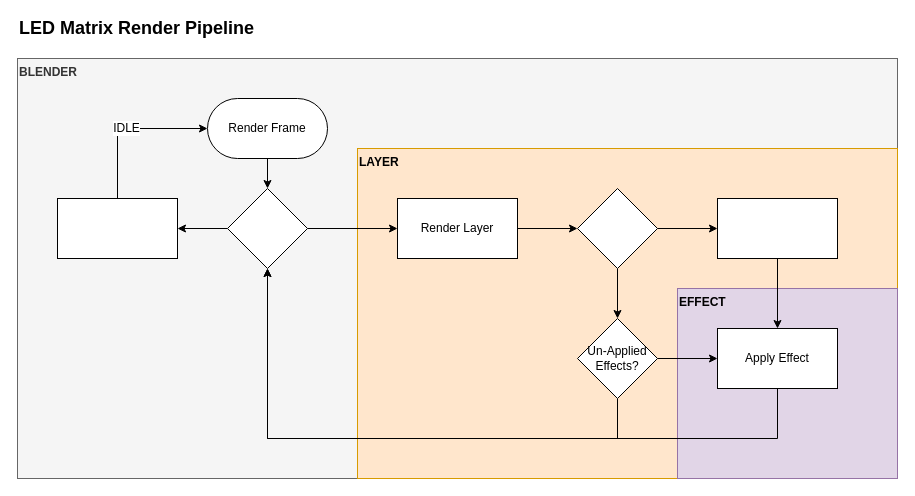
The diagram is 915 pixels wide and 496 high, and some of its shapes have lost their labels. The centre of each missing label's shape, as x and y in pixels:
"Compose Layer" belongs at point 777,228.
"Composition Required?" belongs at point 617,228.
"Output Frame Pixel Data" belongs at point 117,228.
"Un-Rendered Layers?" belongs at point 267,228.
